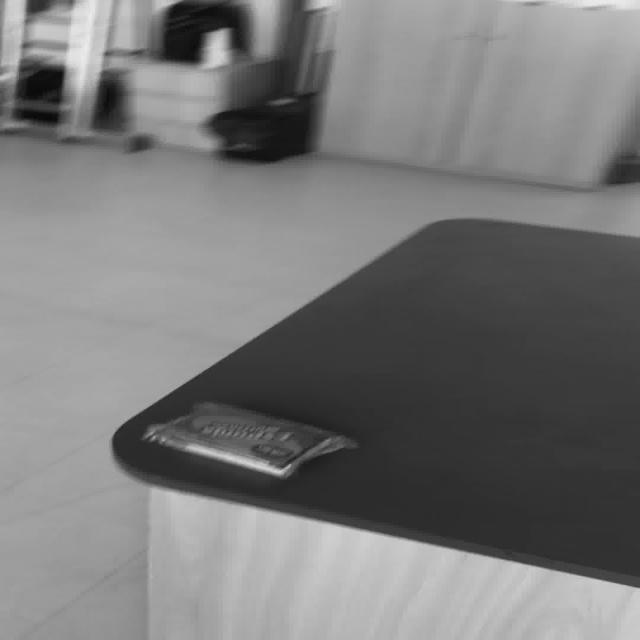sponge: (140, 400, 357, 479)
